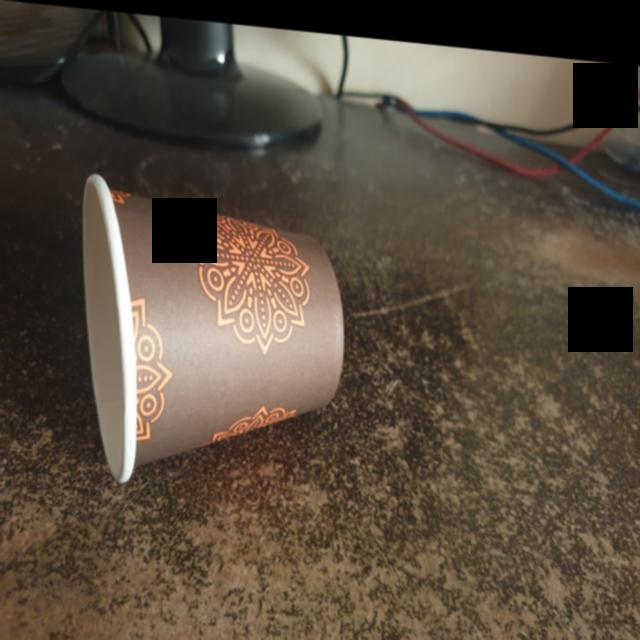cups: (70, 166, 348, 503)
